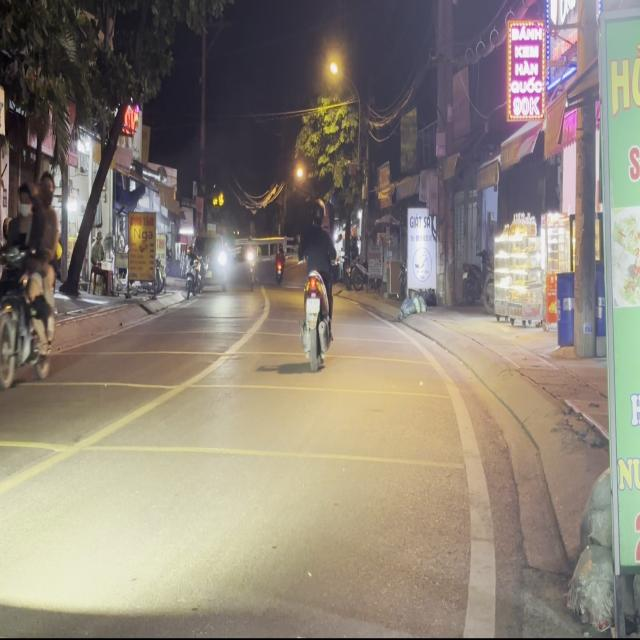licenseplate: (0, 170, 61, 402)
motorcyclist: (35, 168, 55, 205), (16, 179, 33, 217)
